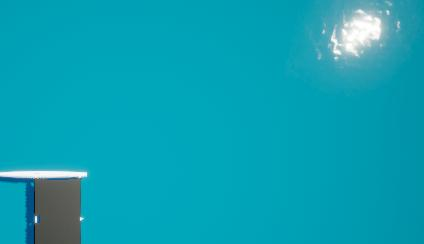boat: (0, 167, 91, 244)
drone: (35, 178, 80, 244)
land_base: (297, 0, 423, 73)
